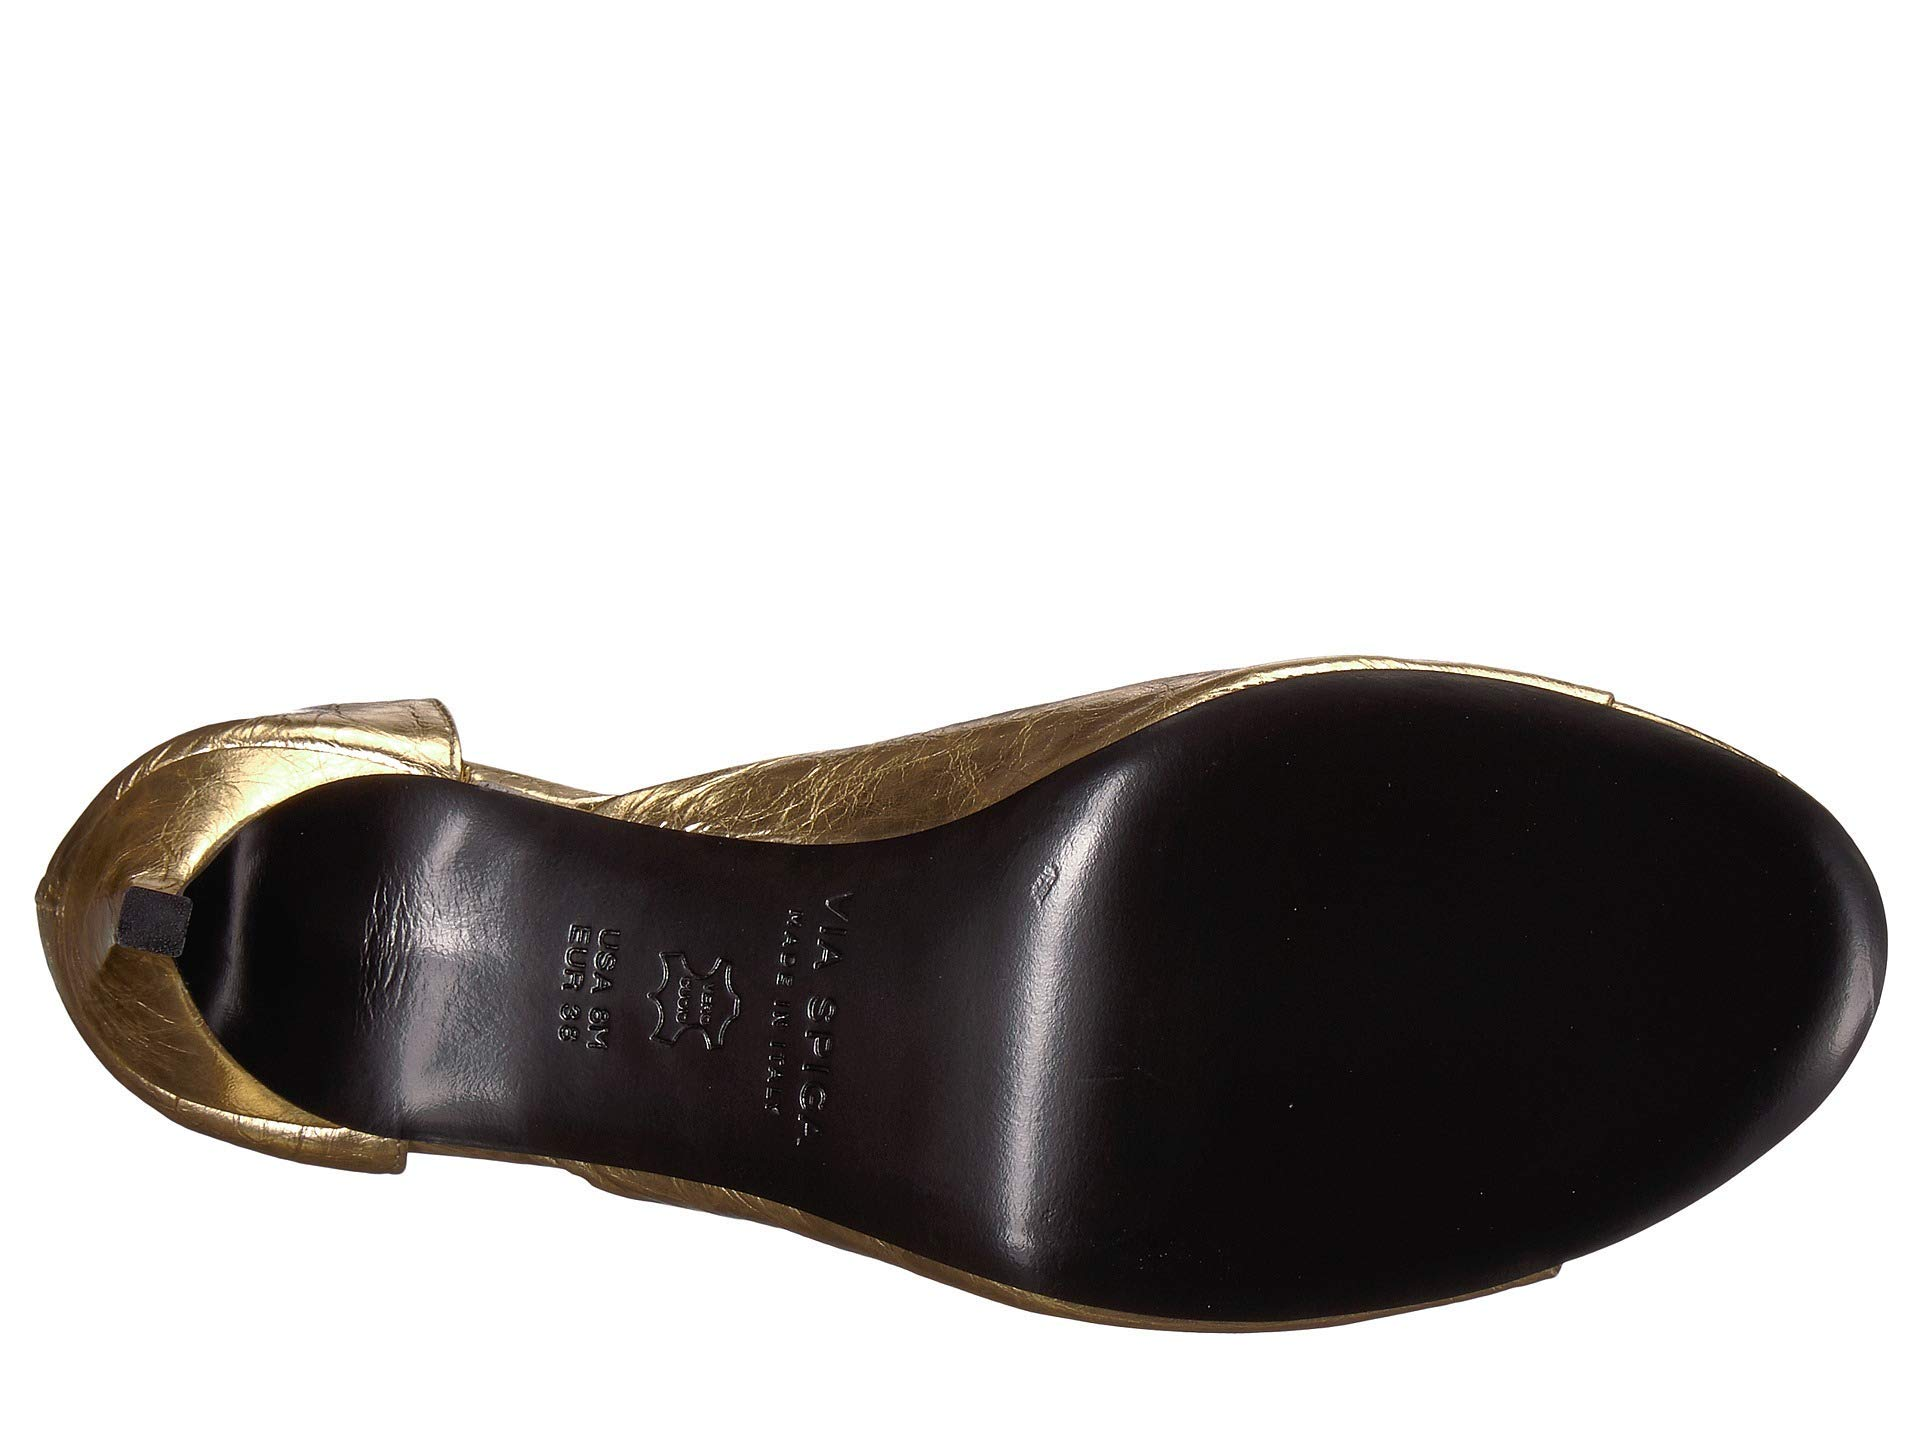other: (1030, 672, 1887, 1336)
